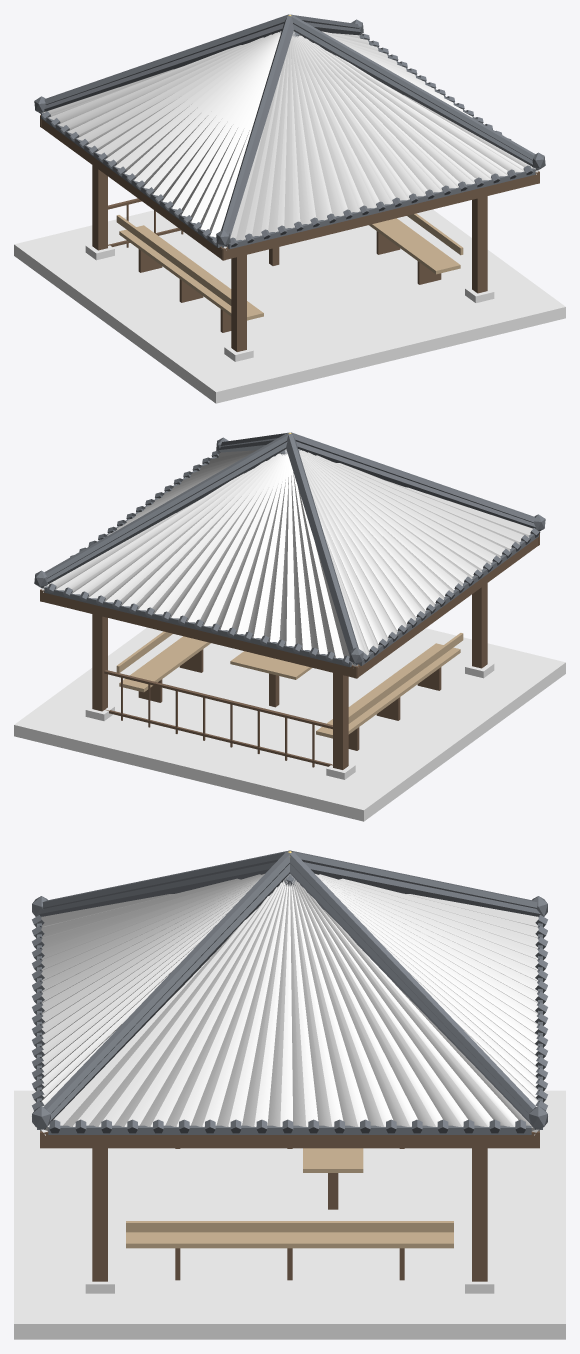
Rendered from azumaya.glb.
3 renders of one model, top to bottom at view 1: azimuth 30°, elevation 25°; view 2: azimuth 150°, elevation 25°; view 3: azimuth 270°, elevation 25°, orthographic. The views are drawn at different scales.
Visible parts, largest first — view 1: azumaya_body; view 2: azumaya_body; view 3: azumaya_body.
Boxes of the visible parts, bbox=[...] form: azumaya_body: bbox=[14, 14, 565, 403]; azumaya_body: bbox=[14, 432, 565, 821]; azumaya_body: bbox=[14, 850, 565, 1339].
Size of what is drawn, in the model's own units: 6.4 by 4.76 by 6.4.
